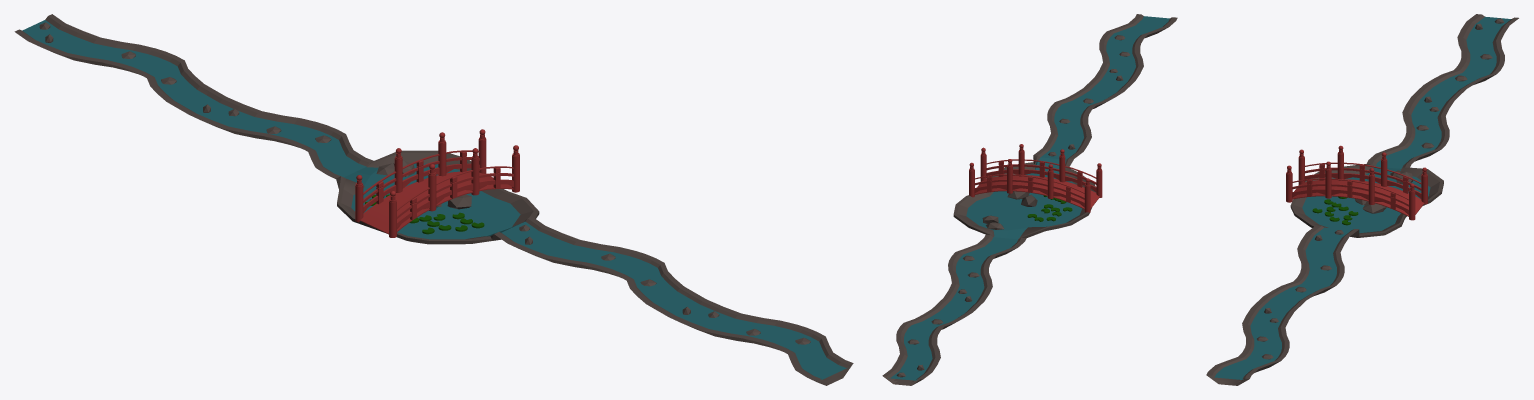
Rendered from TT_Japanese_River 1.fbx.
The picture shows the model from 3 angles, left to right: view 1: azimuth 30°, elevation 25°; view 2: azimuth 150°, elevation 25°; view 3: azimuth 330°, elevation 25°; orthographic projection. The views are drawn at different scales.
Parts seen in each view (by area): view 1: River2; view 2: River2; view 3: River2.
Boxes of the visible parts, <box> form: River2: <box>14,14,853,385</box>; River2: <box>882,14,1177,385</box>; River2: <box>1206,14,1518,385</box>.
Bounding box in the file's own units: 1075 × 271 × 3844.
